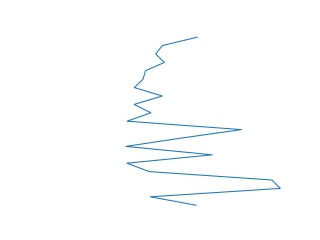crevasseRiverBedLagDeposit: (122, 36, 283, 210)
